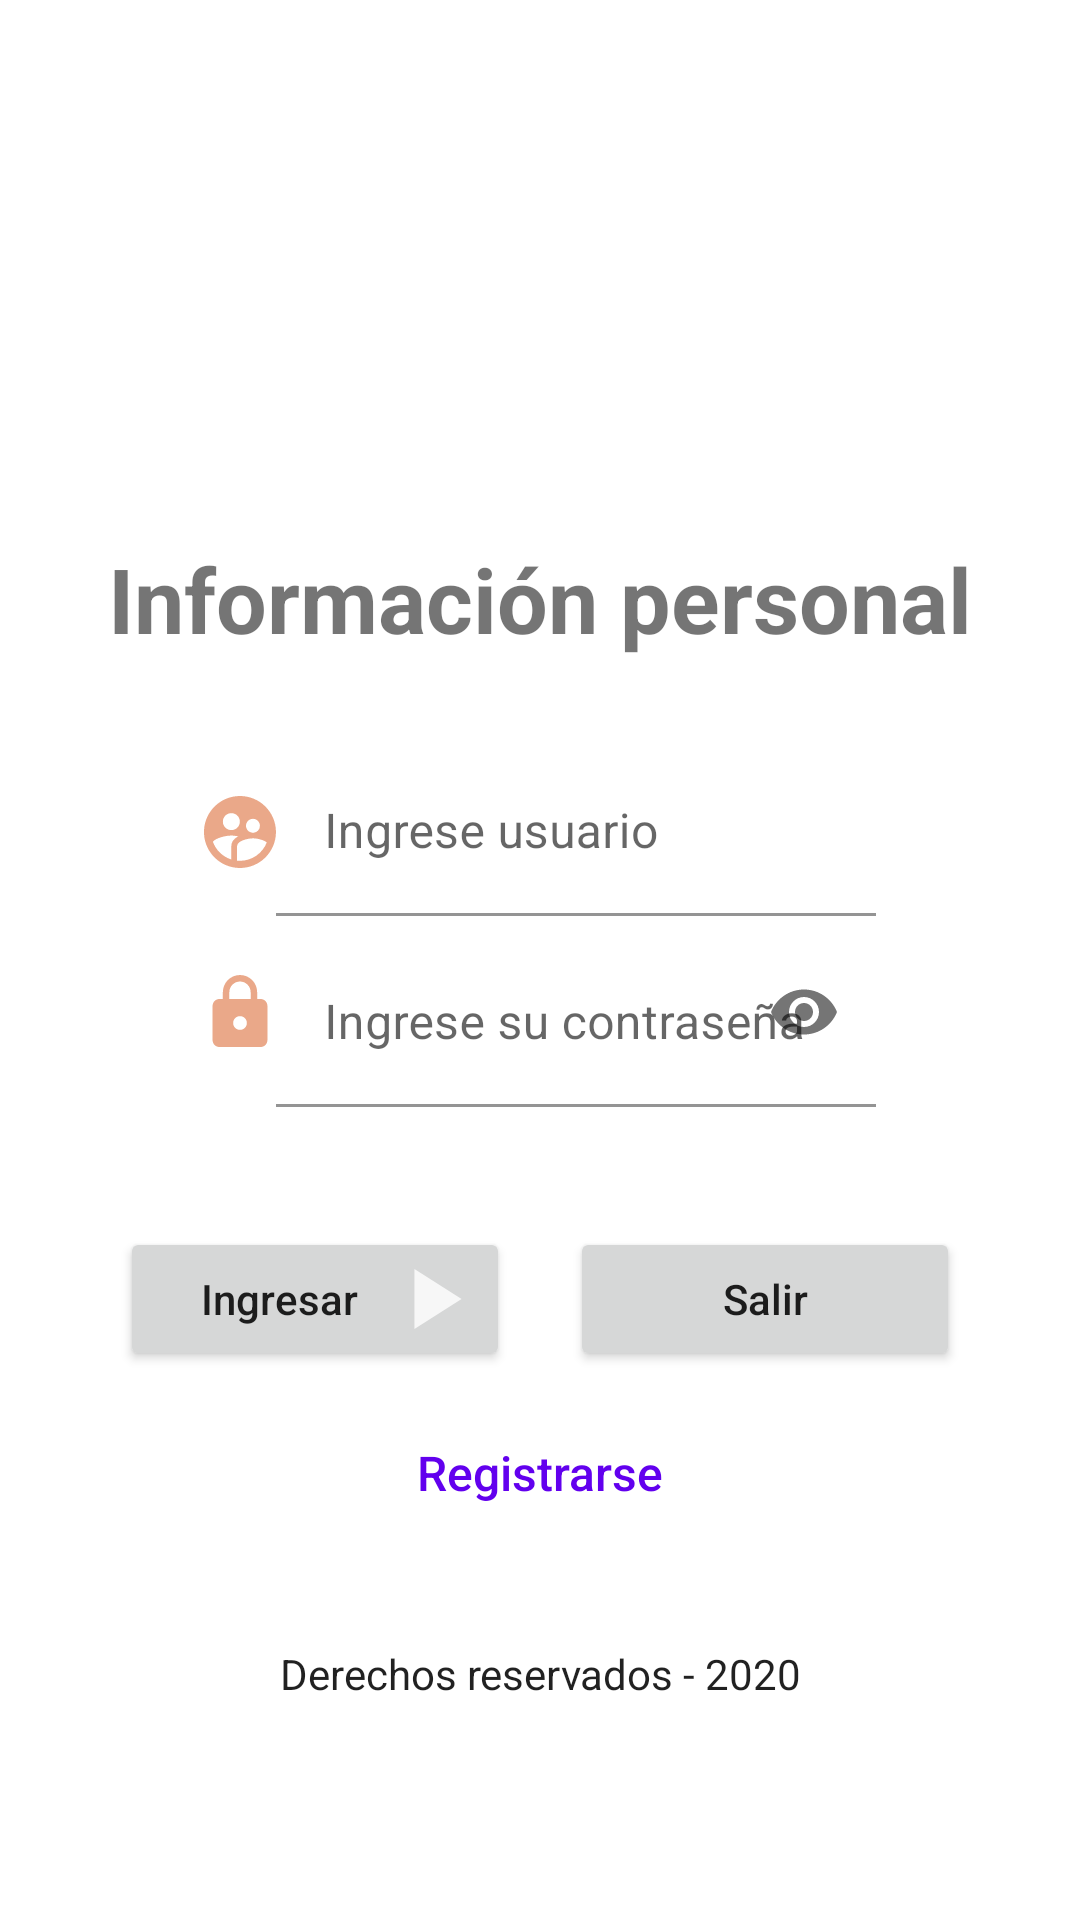

Icon bounding boxes for this 1080×1920 phone screenshot, format (left=x1, top=y1, right=x2, bottom=y2):
pass: (left=212, top=975, right=268, bottom=1047)
user: (left=204, top=796, right=276, bottom=868)
